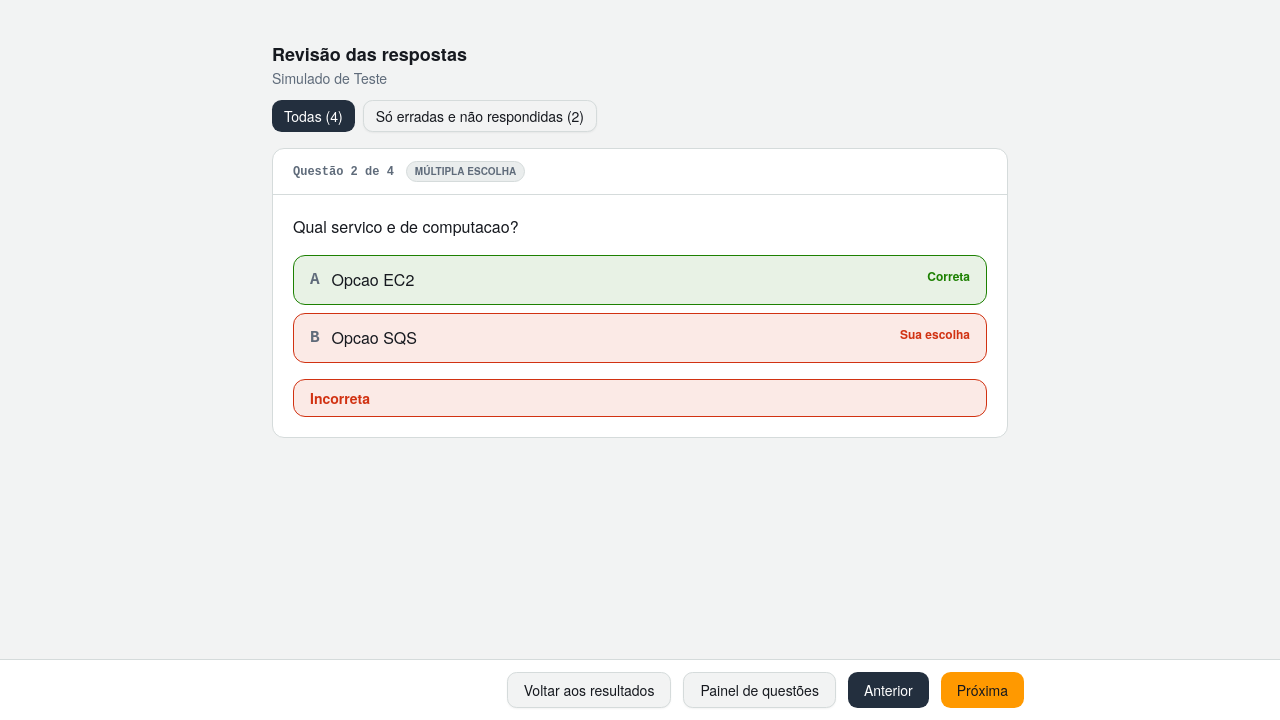
Scenario: ExamReview filtro › desabilita Anterior na primeira questao do filtro mesmo havendo corretas antes
Click the button "Só erradas e não respondidas (2)" at x=480, y=116, box 363,100 -> 597,132
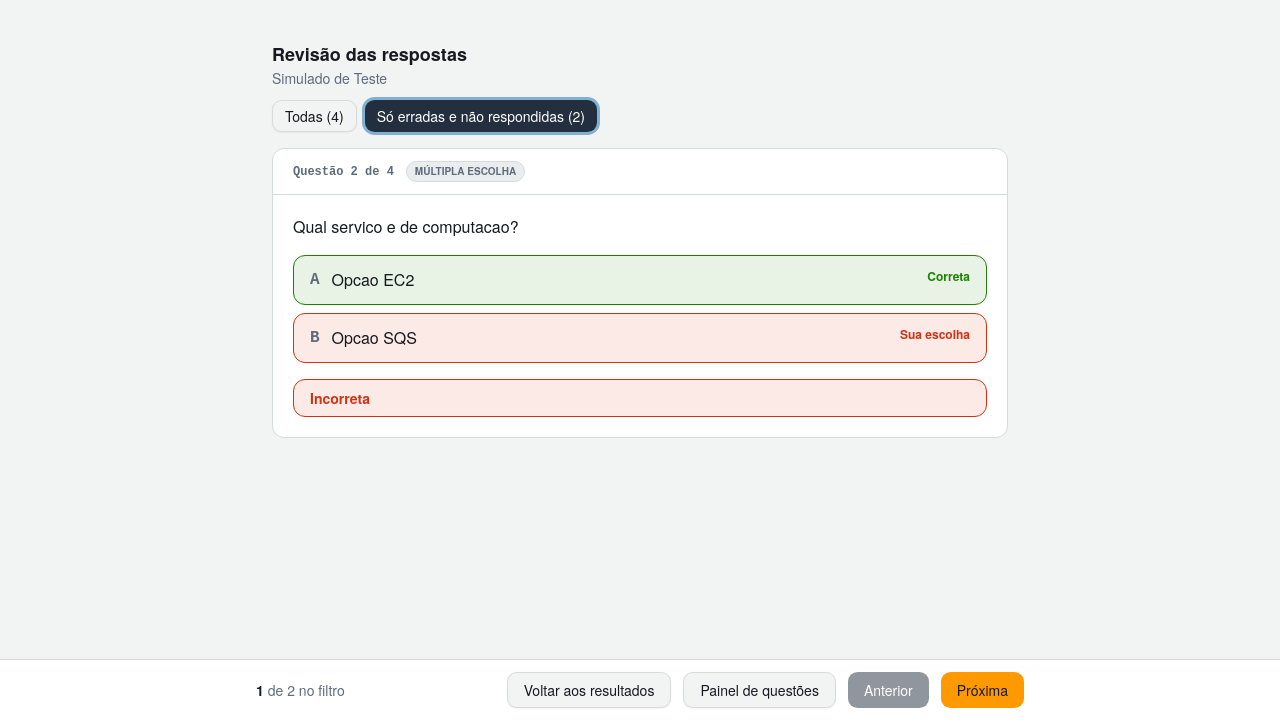
Check: the button "Anterior" is disabled, box 848,672 -> 929,708
